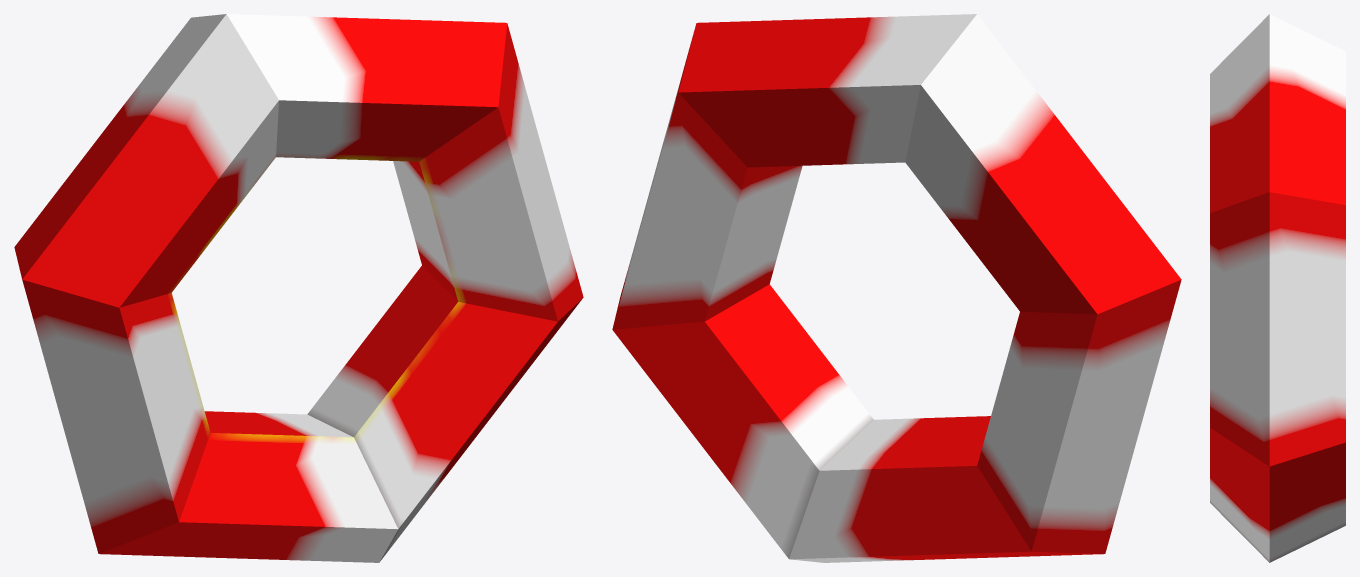
The model's file is Rettungsring_1322.glb.
3 renders of one model, left to right at view 1: azimuth 30°, elevation 25°; view 2: azimuth 150°, elevation 25°; view 3: azimuth 270°, elevation 25°, orthographic. The views are drawn at different scales.
Visible parts, largest first — view 1: pTorusShape1; view 2: pTorusShape1; view 3: pTorusShape1.
Part boxes in pixels (<box>): pTorusShape1: <box>14,14,583,562</box>; pTorusShape1: <box>612,14,1181,562</box>; pTorusShape1: <box>1210,14,1345,562</box>.
Bounding box in the file's own units: 0.1221 × 0.1219 × 0.0308.
Materials: 1 (1 with a texture image).
